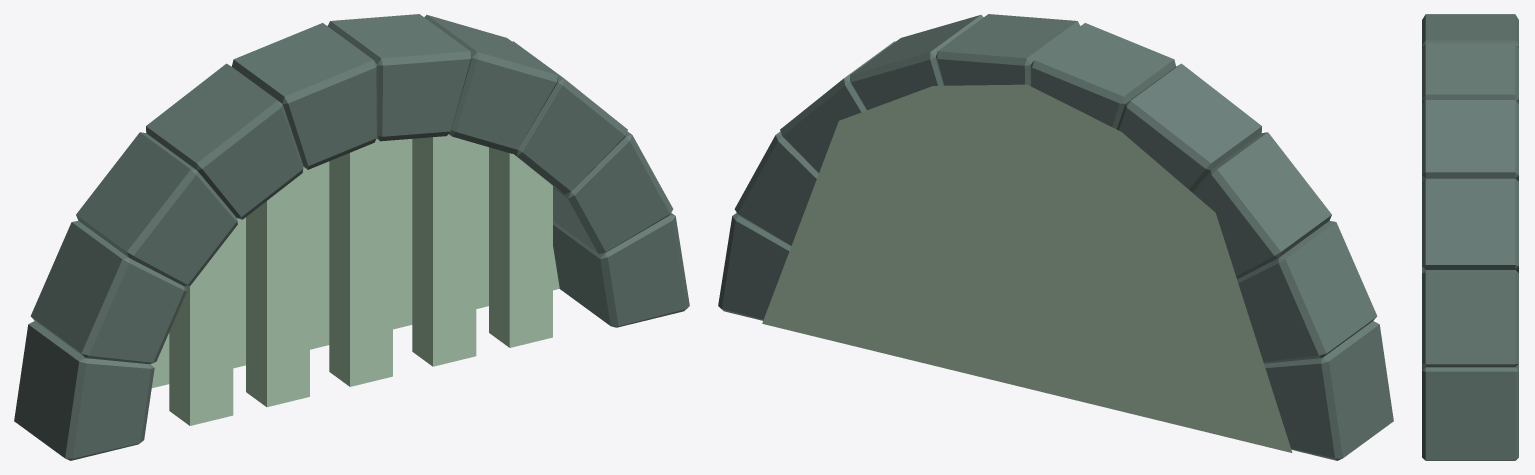
File: drainage.fbx
3 views of the same model, side by side, from view 1: azimuth 30°, elevation 25°; view 2: azimuth 150°, elevation 25°; view 3: azimuth 270°, elevation 25° (orthographic). The views are drawn at different scales.
Parts seen in each view (by area): view 1: drainage; view 2: drainage; view 3: drainage.
Boxes of the visible parts, x1,y1,x2,y2 form: drainage: [14, 14, 689, 460]; drainage: [718, 14, 1393, 460]; drainage: [1422, 14, 1518, 460].
Size of the model in its own units: 0.8383 by 0.4192 by 0.1306.
